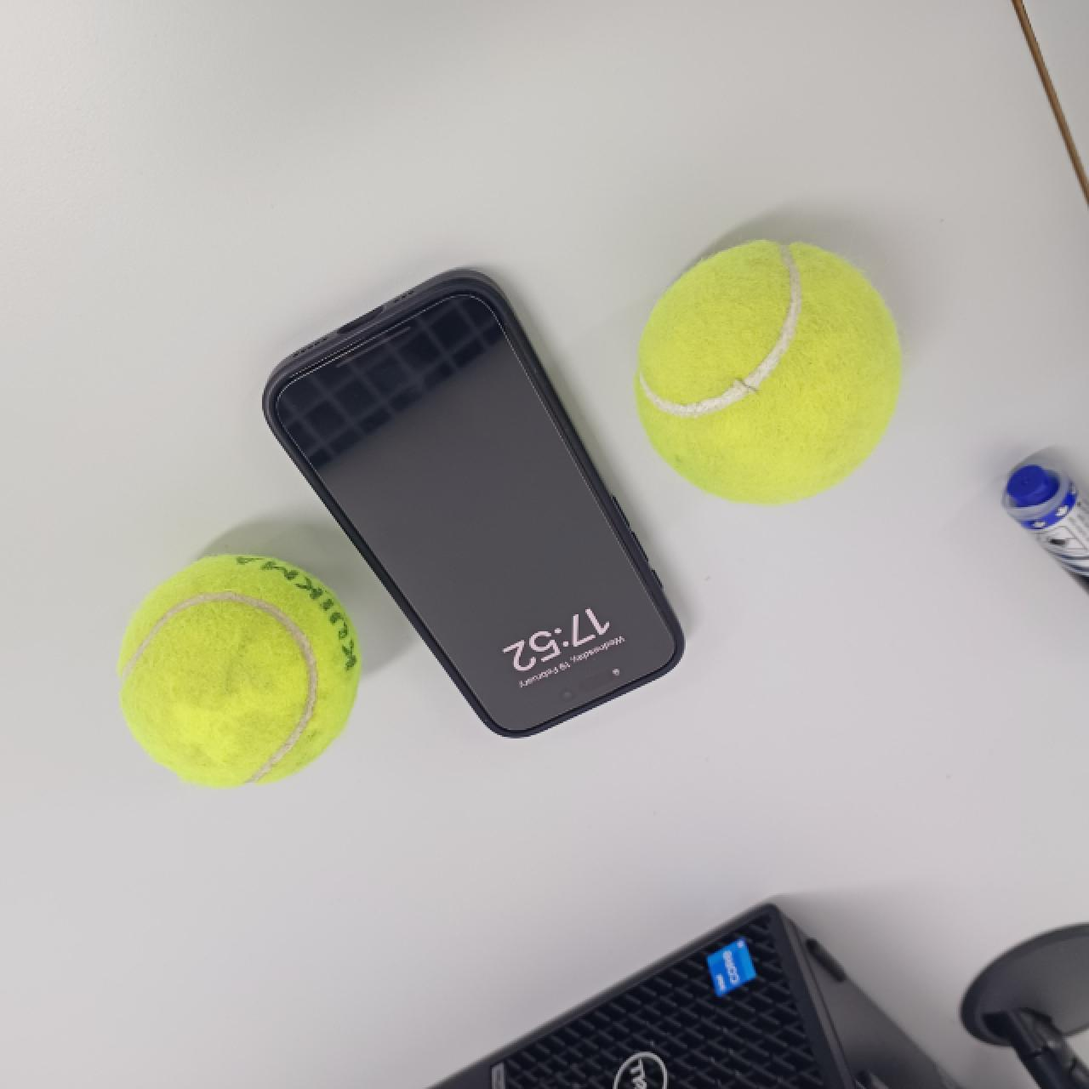tennis-ball: (634, 234, 899, 506), (116, 551, 361, 786)
